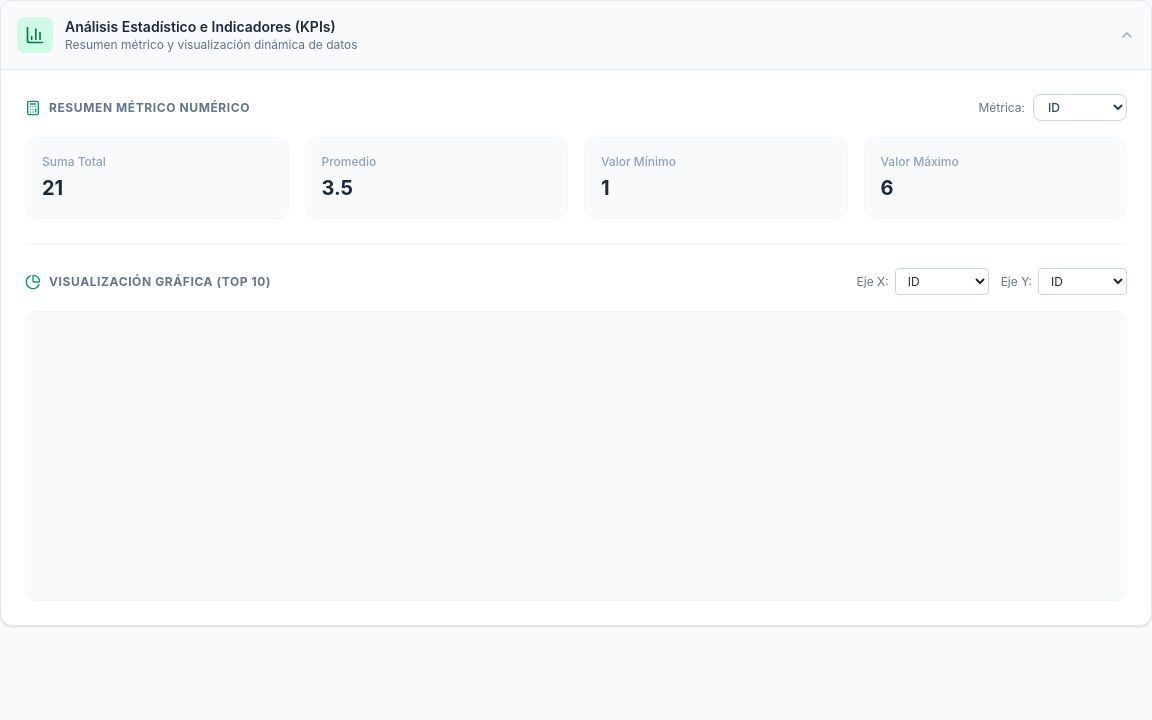
Test: Componente DataAnalysis › debe permitir cambiar la métrica seleccionada y recalcular las estadísticas
Select "Ventas" in the dropdown next to "Métrica:": x=1080, y=108 [1033,94,1127,121]
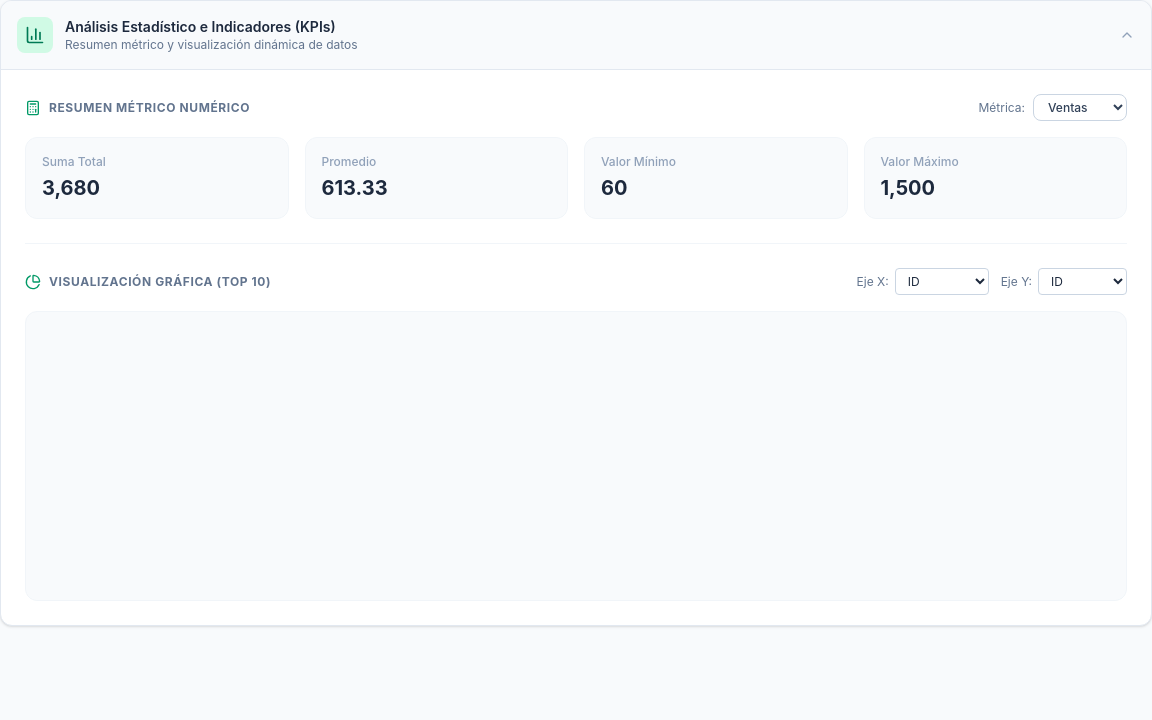
Expected: the text "3,680" is shown, [42,176,100,200]
Expected: the text "60" is shown, [601,176,628,200]
Expected: the text "1,500" is shown, [880,176,935,200]
